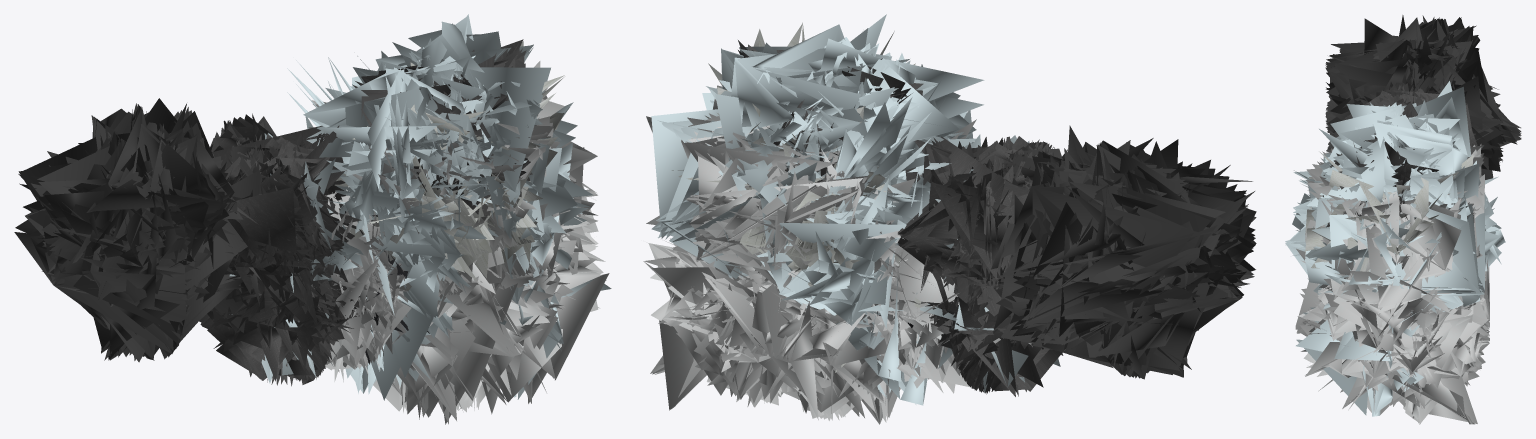
The model's file is index.gltf.
3 views of the same model, side by side, from view 1: azimuth 30°, elevation 25°; view 2: azimuth 150°, elevation 25°; view 3: azimuth 270°, elevation 25° (orthographic). The views are drawn at different scales.
Visible parts, largest first — view 1: 1ACM44000300, Cylinder192, Cylinder169, Cylinder199, Line017, Cylinder210, Line016, 28B8EBFAA26CBEBCC2FE826A35317BFAB5E7CF17|:|E5C87468F25A45430, 28B8EBFAA26CBEBCC2FE826A35317BFAB5E7CF17|:|78BE9E9D32837FB11, Cylinder167, Cylinder145, Cylinder171 (+29 smaller); view 2: 1ACM44000300, 28B8EBFAA26CBEBCC2FE826A35317BFAB5E7CF17|:|E5C87468F25A45430, Cylinder169, Cylinder190, Cylinder211, 对象002, Cylinder149, Cylinder206, Cylinder209, Cylinder192, Cylinder173, 28B8EBFAA26CBEBCC2FE826A35317BFAB5E7CF17|:|623773C009879FFC5 (+12 smaller); view 3: 1ACM44000300, Cylinder149, Cylinder211, 对象002, Cylinder169, Cylinder162, Cylinder164, Cylinder168, Cylinder167, 28B8EBFAA26CBEBCC2FE826A35317BFAB5E7CF17|:|E5C87468F25A45430 (×2), 28B8EBFAA26CBEBCC2FE826A35317BFAB5E7CF17|:|18F148EA8B2E17E60, Cylinder199 (+17 smaller).
Boxes of the visible parts, x1,y1,x2,y2 form: 1ACM44000300: (14, 47, 560, 412); Cylinder192: (303, 62, 477, 198); Cylinder169: (353, 14, 531, 151); Cylinder199: (431, 67, 561, 191); Line017: (397, 273, 520, 424); Cylinder210: (323, 209, 439, 378); Line016: (495, 273, 609, 403); 28B8EBFAA26CBEBCC2FE826A35317BFAB5E7CF17|:|E5C87468F25A45430: (369, 116, 553, 302); 28B8EBFAA26CBEBCC2FE826A35317BFAB5E7CF17|:|78BE9E9D32837FB11: (352, 39, 536, 220); Cylinder167: (501, 182, 605, 307); Cylinder145: (430, 288, 556, 414); Cylinder171: (311, 192, 411, 382); 1ACM44000300: (689, 37, 1256, 396); 28B8EBFAA26CBEBCC2FE826A35317BFAB5E7CF17|:|E5C87468F25A45430: (684, 131, 872, 292); Cylinder169: (731, 14, 909, 153); Cylinder190: (705, 262, 882, 420); Cylinder211: (651, 109, 836, 278); 对象002: (648, 243, 824, 407); Cylinder149: (643, 238, 812, 410); Cylinder206: (755, 198, 913, 316); Cylinder209: (780, 228, 957, 381); Cylinder192: (802, 53, 975, 193); Cylinder173: (706, 48, 901, 202); 28B8EBFAA26CBEBCC2FE826A35317BFAB5E7CF17|:|623773C009879FFC5: (866, 222, 959, 364); 1ACM44000300: (1295, 15, 1521, 406); Cylinder149: (1342, 274, 1489, 424); Cylinder211: (1354, 160, 1484, 311); 对象002: (1354, 290, 1484, 408); Cylinder169: (1319, 100, 1467, 204); Cylinder162: (1338, 171, 1461, 290); Cylinder164: (1319, 247, 1463, 351); Cylinder168: (1296, 307, 1423, 416); Cylinder167: (1318, 251, 1442, 340); 28B8EBFAA26CBEBCC2FE826A35317BFAB5E7CF17|:|E5C87468F25A45430 (×2): (1305, 144, 1484, 262); 28B8EBFAA26CBEBCC2FE826A35317BFAB5E7CF17|:|18F148EA8B2E17E60: (1319, 151, 1473, 254); Cylinder199: (1306, 137, 1402, 230).
Bounding box in the file's own units: 621 × 400 × 305.
Materials: 7 (7 with a texture image).
